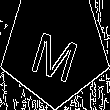M_N: (27, 18, 83, 80)
